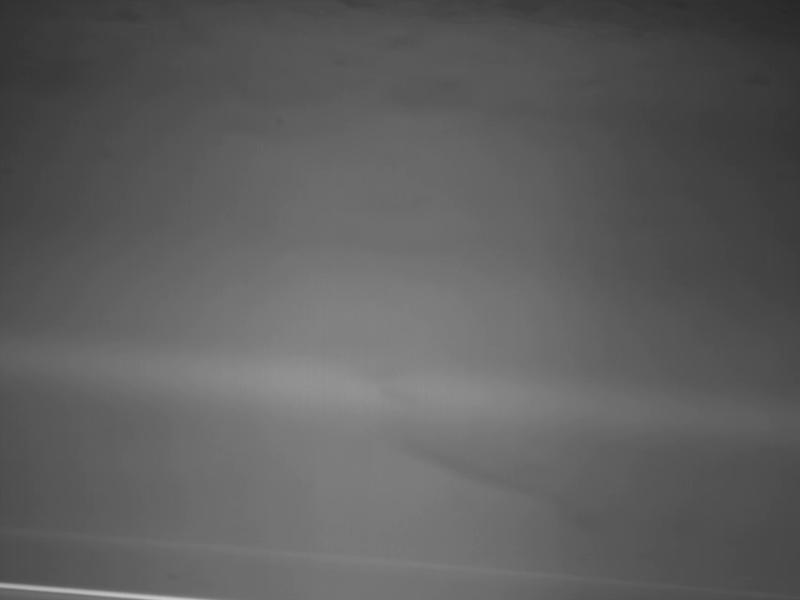fiber: (385, 427, 575, 516)
